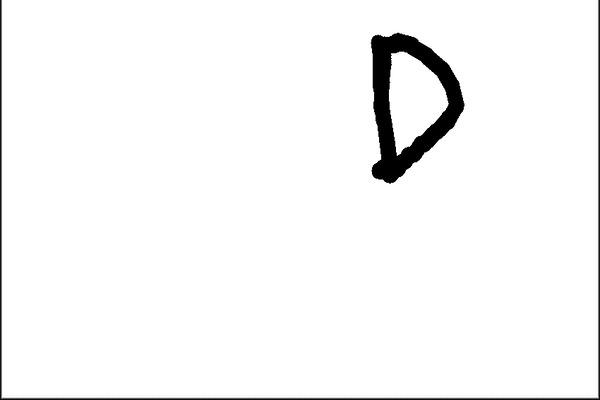D: (362, 23, 469, 190)
